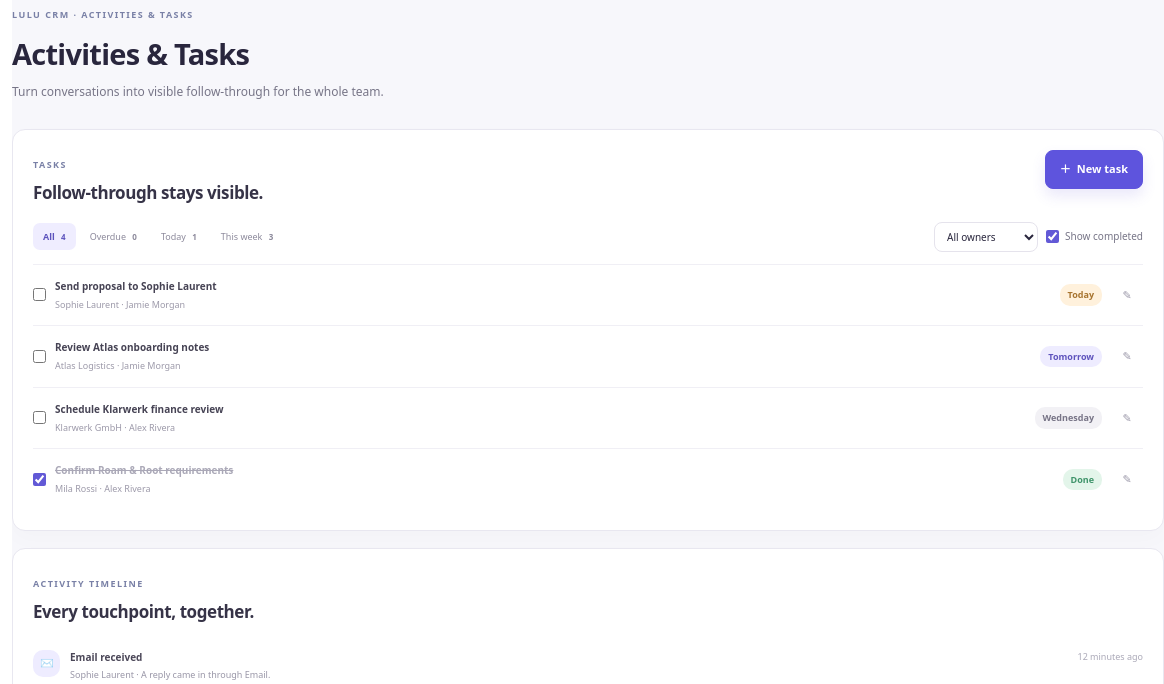
Test: Activities & Tasks page › filters by owner and due date
The image size is (1164, 684).
Expected: the text "Send proposal to Sophie Laurent" is shown, left=55, top=278, right=217, bottom=292
Expected: the text "Email received" is shown, left=70, top=650, right=142, bottom=664
Select "Alex Rivera" in the dropdown named "Owner" at (986, 236), box left=934, top=222, right=1038, bottom=252
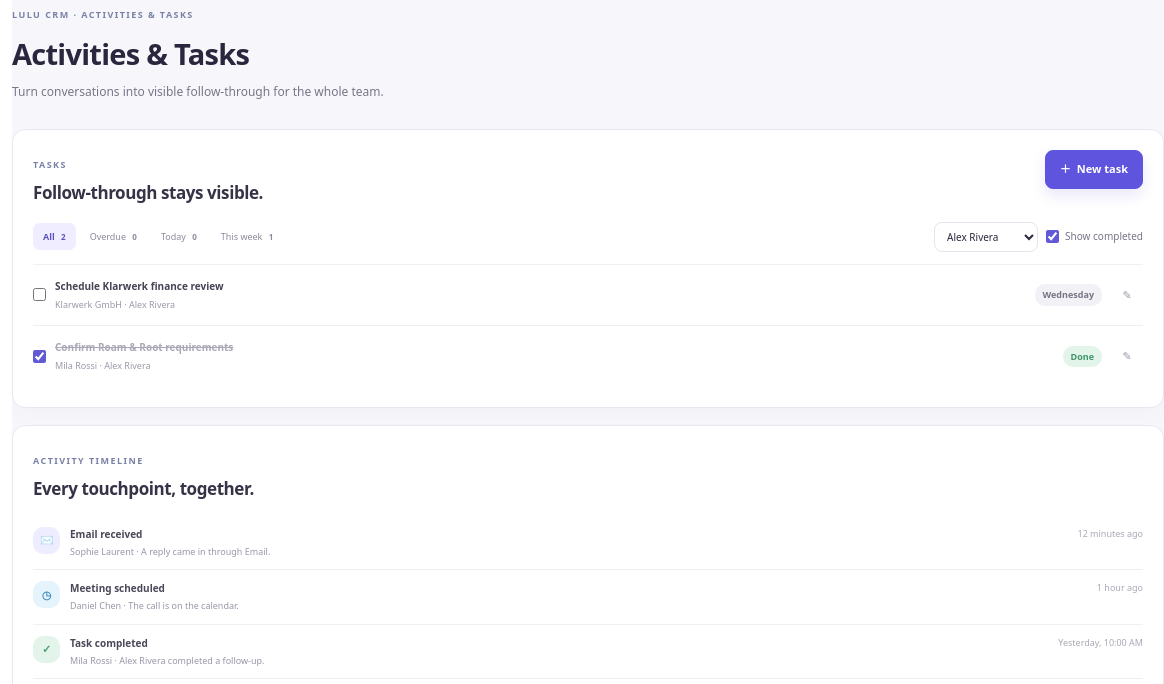
Select "All owners" in the dropdown named "Owner" at (986, 236), box left=934, top=222, right=1038, bottom=252
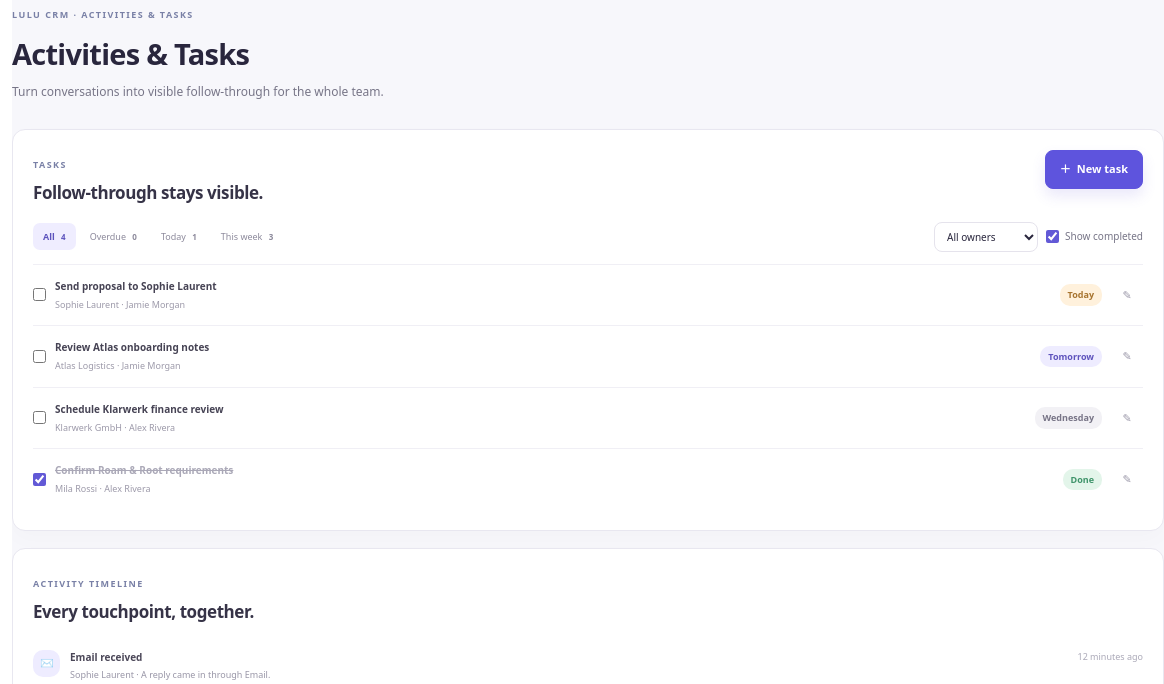
Click the button "Today 1" at (179, 237), box left=151, top=223, right=207, bottom=250
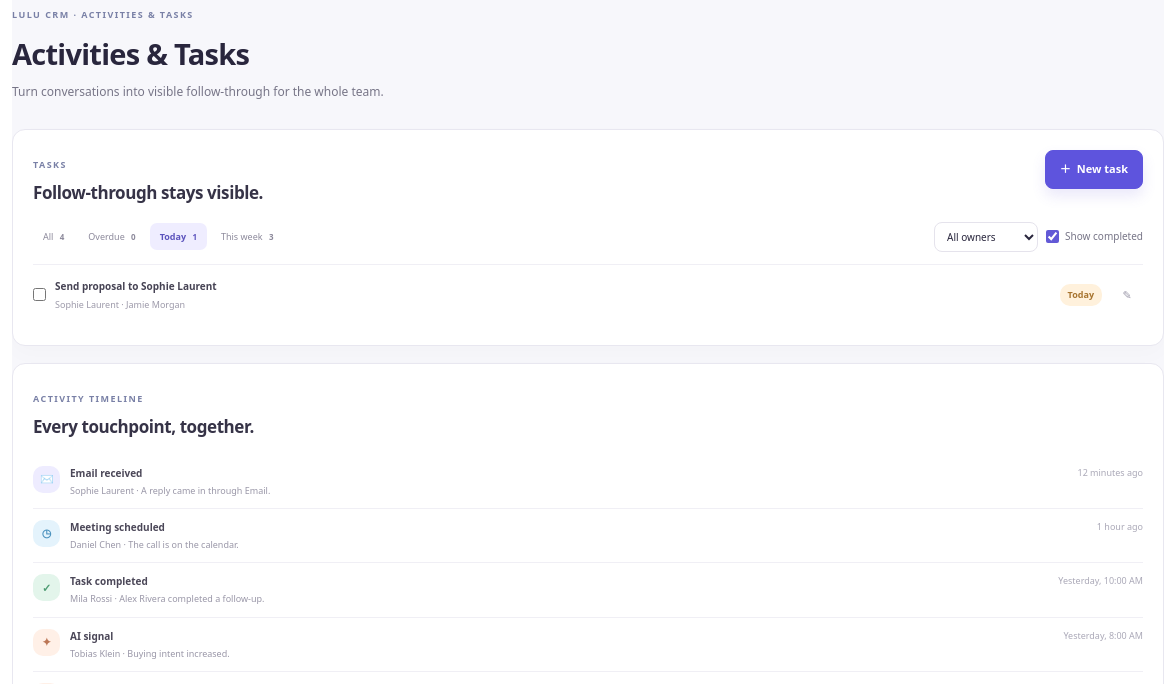
Click the button "Overdue 0" at (112, 237), box left=78, top=223, right=146, bottom=250
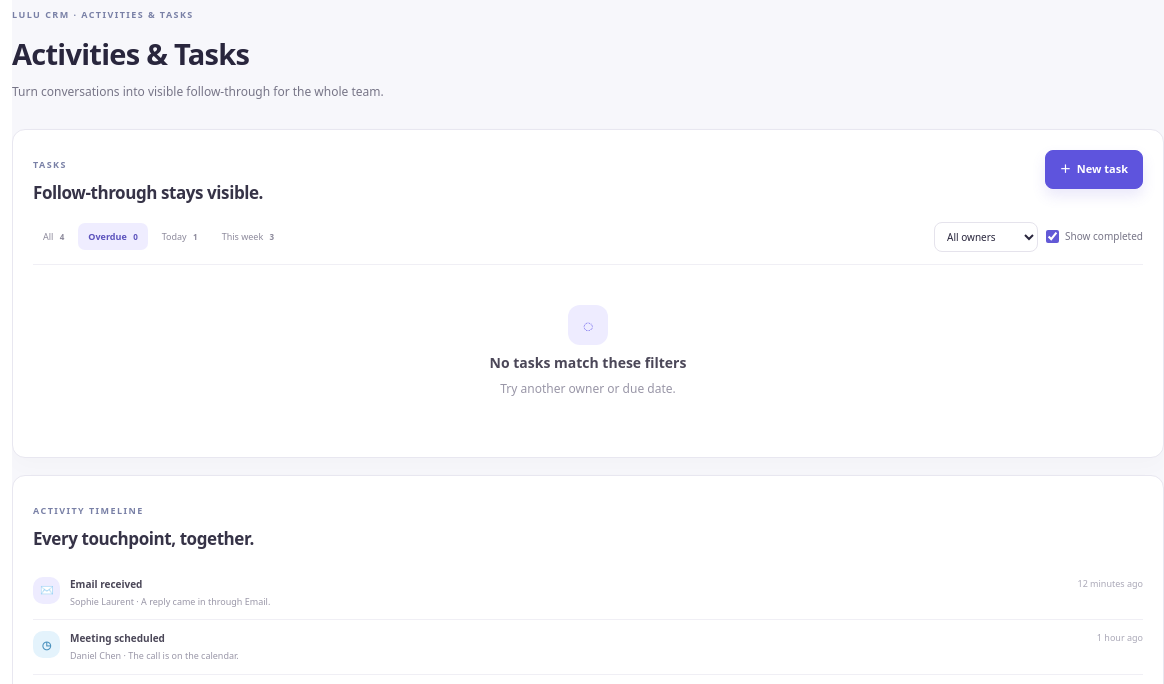
Expected: the text "No tasks match these filters" is shown, left=490, top=352, right=686, bottom=372
